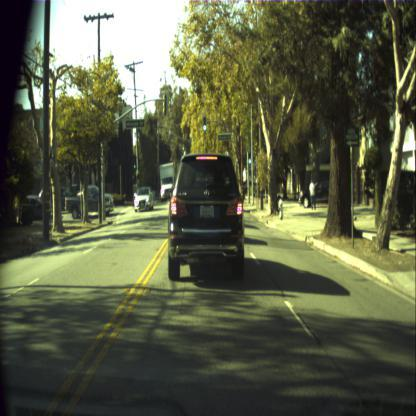Green: (202, 115, 206, 131), (132, 156, 136, 168), (248, 152, 251, 164)
